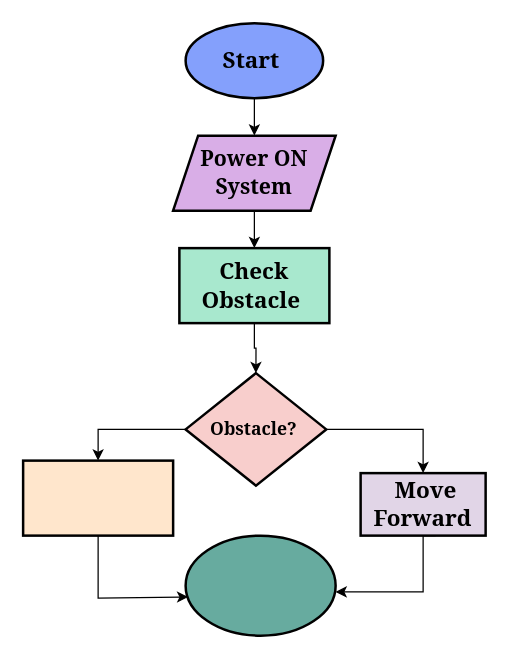
Some shapes in this 508 by 658 pixel diagram are drawn without their labels. Here are the shapes that lost their labels. From the top down, the centre of each, then its label:
At point (97, 497): "Apply Brake".
At point (260, 585): "Stop".
